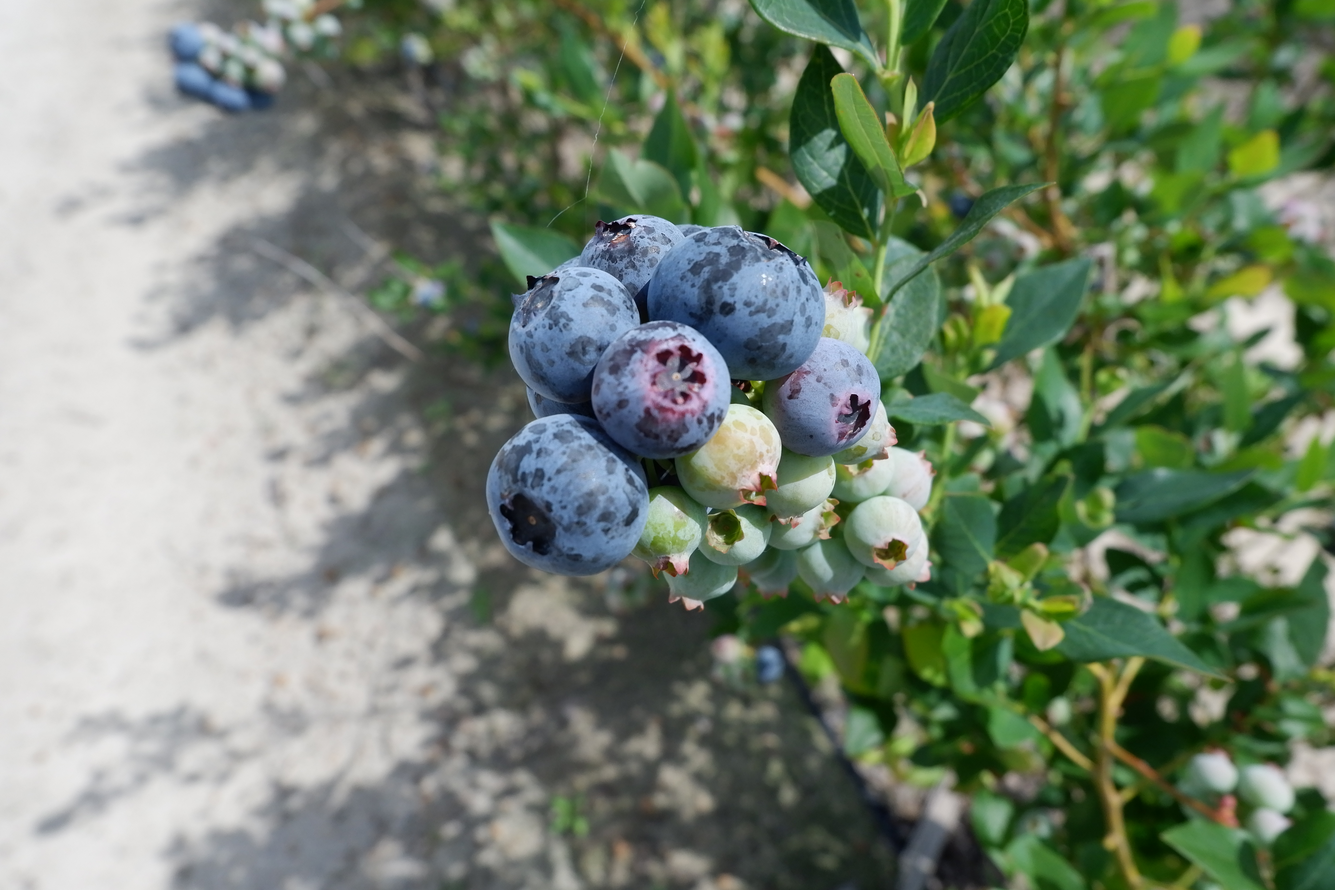Immature: (679, 405, 779, 506), (634, 488, 705, 573), (847, 498, 922, 569), (659, 548, 739, 612), (796, 534, 864, 603), (766, 450, 833, 518), (701, 506, 768, 563), (825, 280, 872, 354), (770, 500, 839, 548), (835, 449, 894, 501), (872, 539, 933, 586), (847, 404, 895, 460), (889, 449, 933, 510), (747, 549, 795, 596)
Mature: (647, 231, 820, 376), (490, 416, 645, 571), (594, 325, 728, 454), (510, 267, 635, 402), (765, 341, 878, 455), (580, 217, 678, 310), (528, 385, 597, 419), (675, 223, 709, 238), (558, 254, 582, 269)
